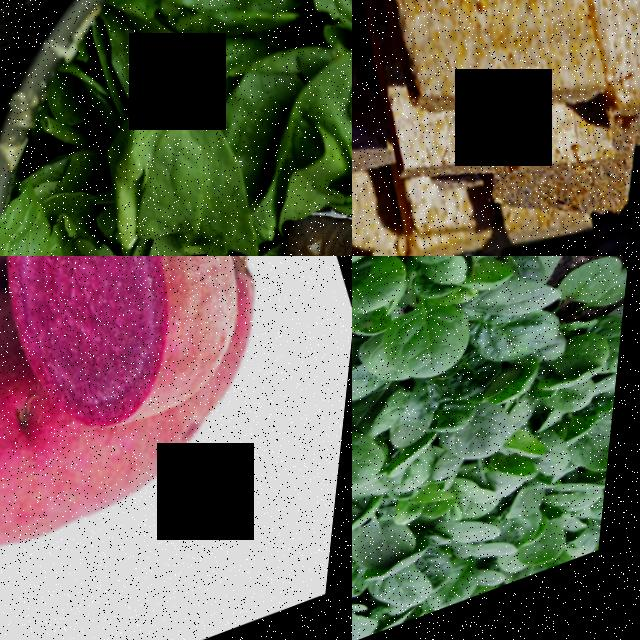spinach: (96, 88, 292, 256), (377, 290, 493, 391), (298, 7, 352, 223), (0, 187, 102, 256), (442, 403, 529, 469), (372, 556, 452, 621), (353, 511, 435, 574), (352, 256, 423, 322), (352, 415, 402, 505), (572, 415, 621, 479)
sweet potato: (0, 256, 302, 457), (0, 256, 110, 628)
tempeh: (353, 0, 630, 162), (549, 0, 640, 147)
